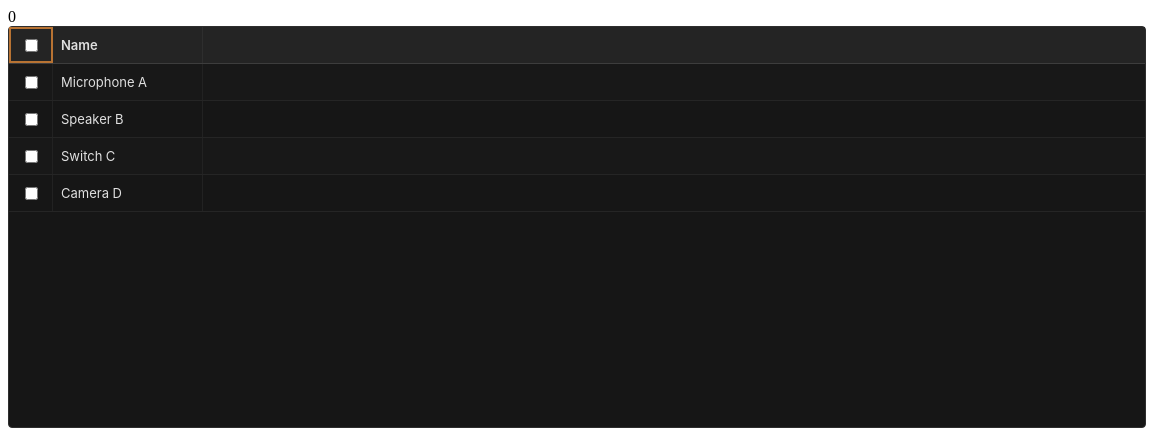
Scenario: Grid Bulk Actions & Multi-Select (GR.W3 / B148) › useBulkSelection hook › integrates with DataGrid via createSelectionColumnDef
The image size is (1152, 445).
Expected: the text with test id "grid-selected-count" reads "0", [8, 8, 16, 25]
Expected: the checkbox with test id "select-all-checkbox" is shown, [24, 38, 38, 52]
# Select row 1
Click the checkbox with test id "^select-row-checkbox-": (31, 82) [24, 76, 38, 88]
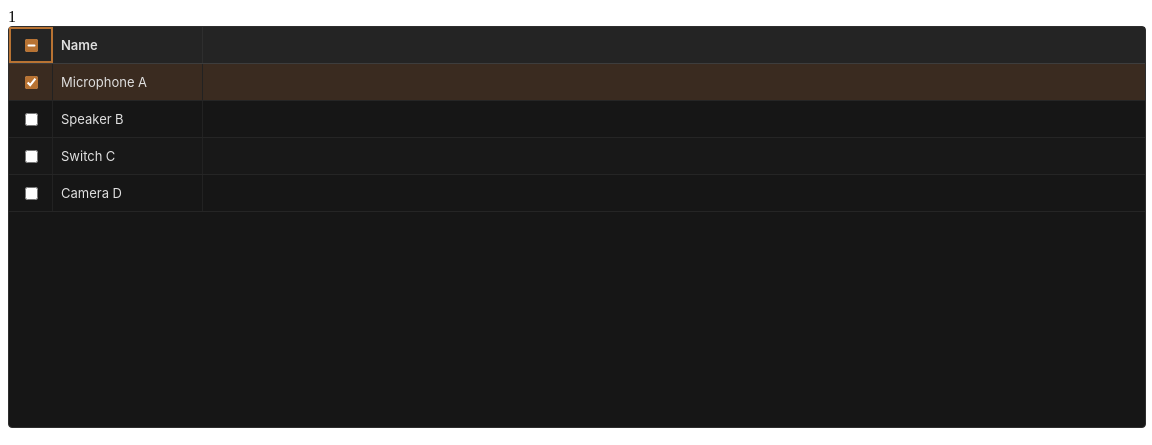
Expected: the text with test id "grid-selected-count" reads "1", [8, 8, 16, 25]
# Click select-all (since some selected, toggles to select all)
Click the checkbox with test id "select-all-checkbox": (31, 45) [24, 38, 38, 52]
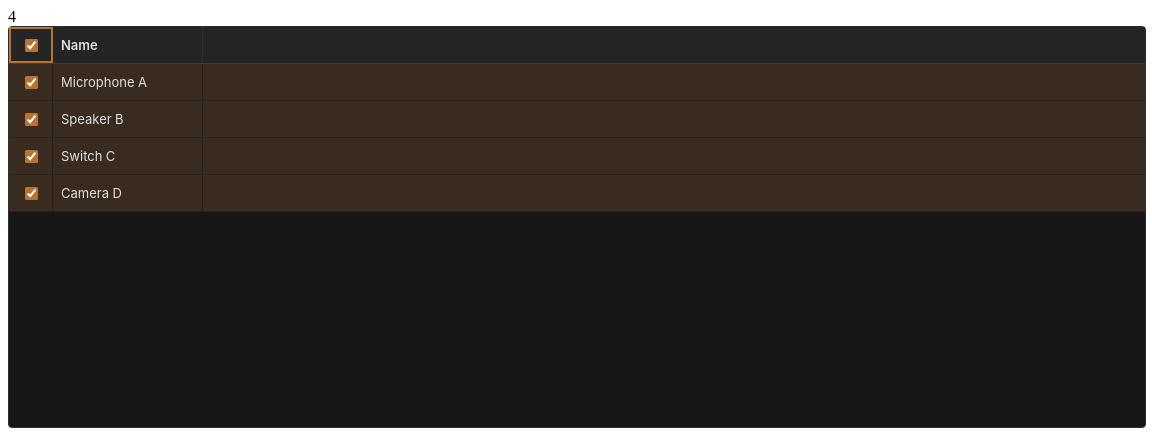
Expected: the text with test id "grid-selected-count" reads "4", [8, 8, 16, 25]
# Click select-all again (since all selected, toggles to clear)
Click the checkbox with test id "select-all-checkbox": (31, 45) [24, 38, 38, 52]
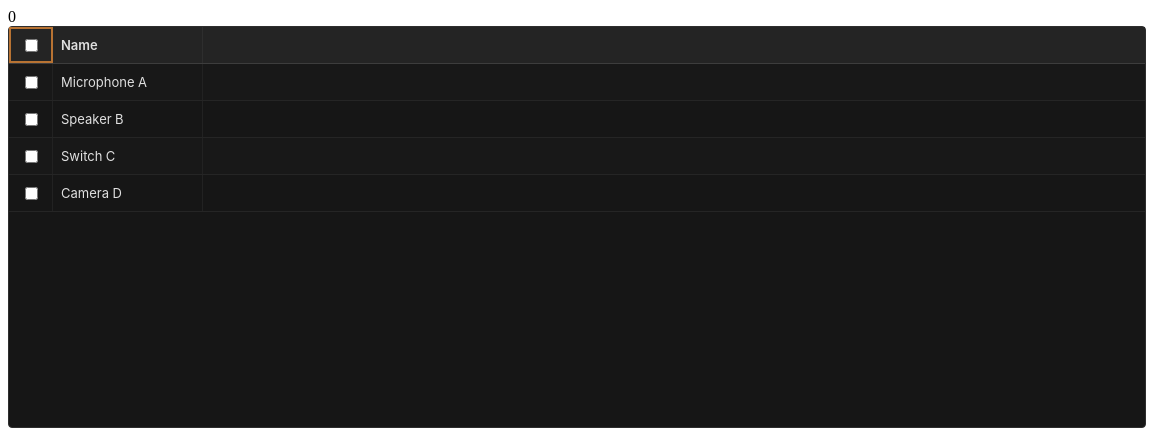
Expected: the text with test id "grid-selected-count" reads "0", [8, 8, 16, 25]
